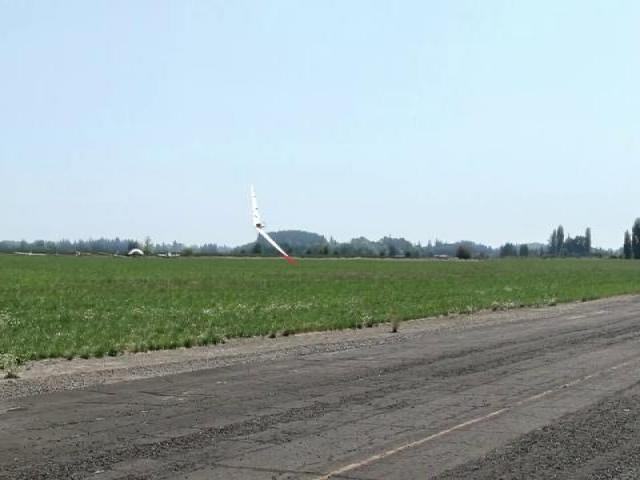flying wing: (248, 182, 300, 268)
